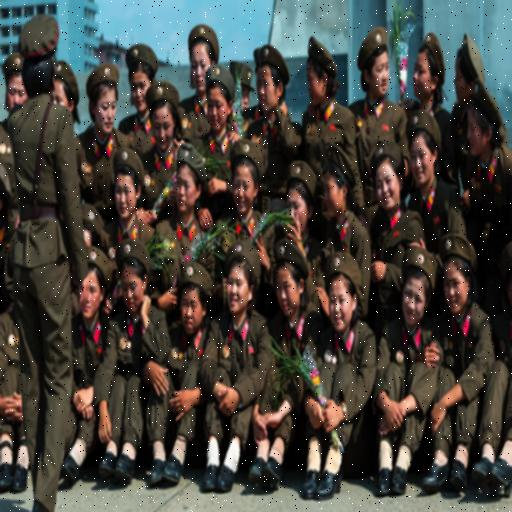north army: (6, 11, 512, 434)
